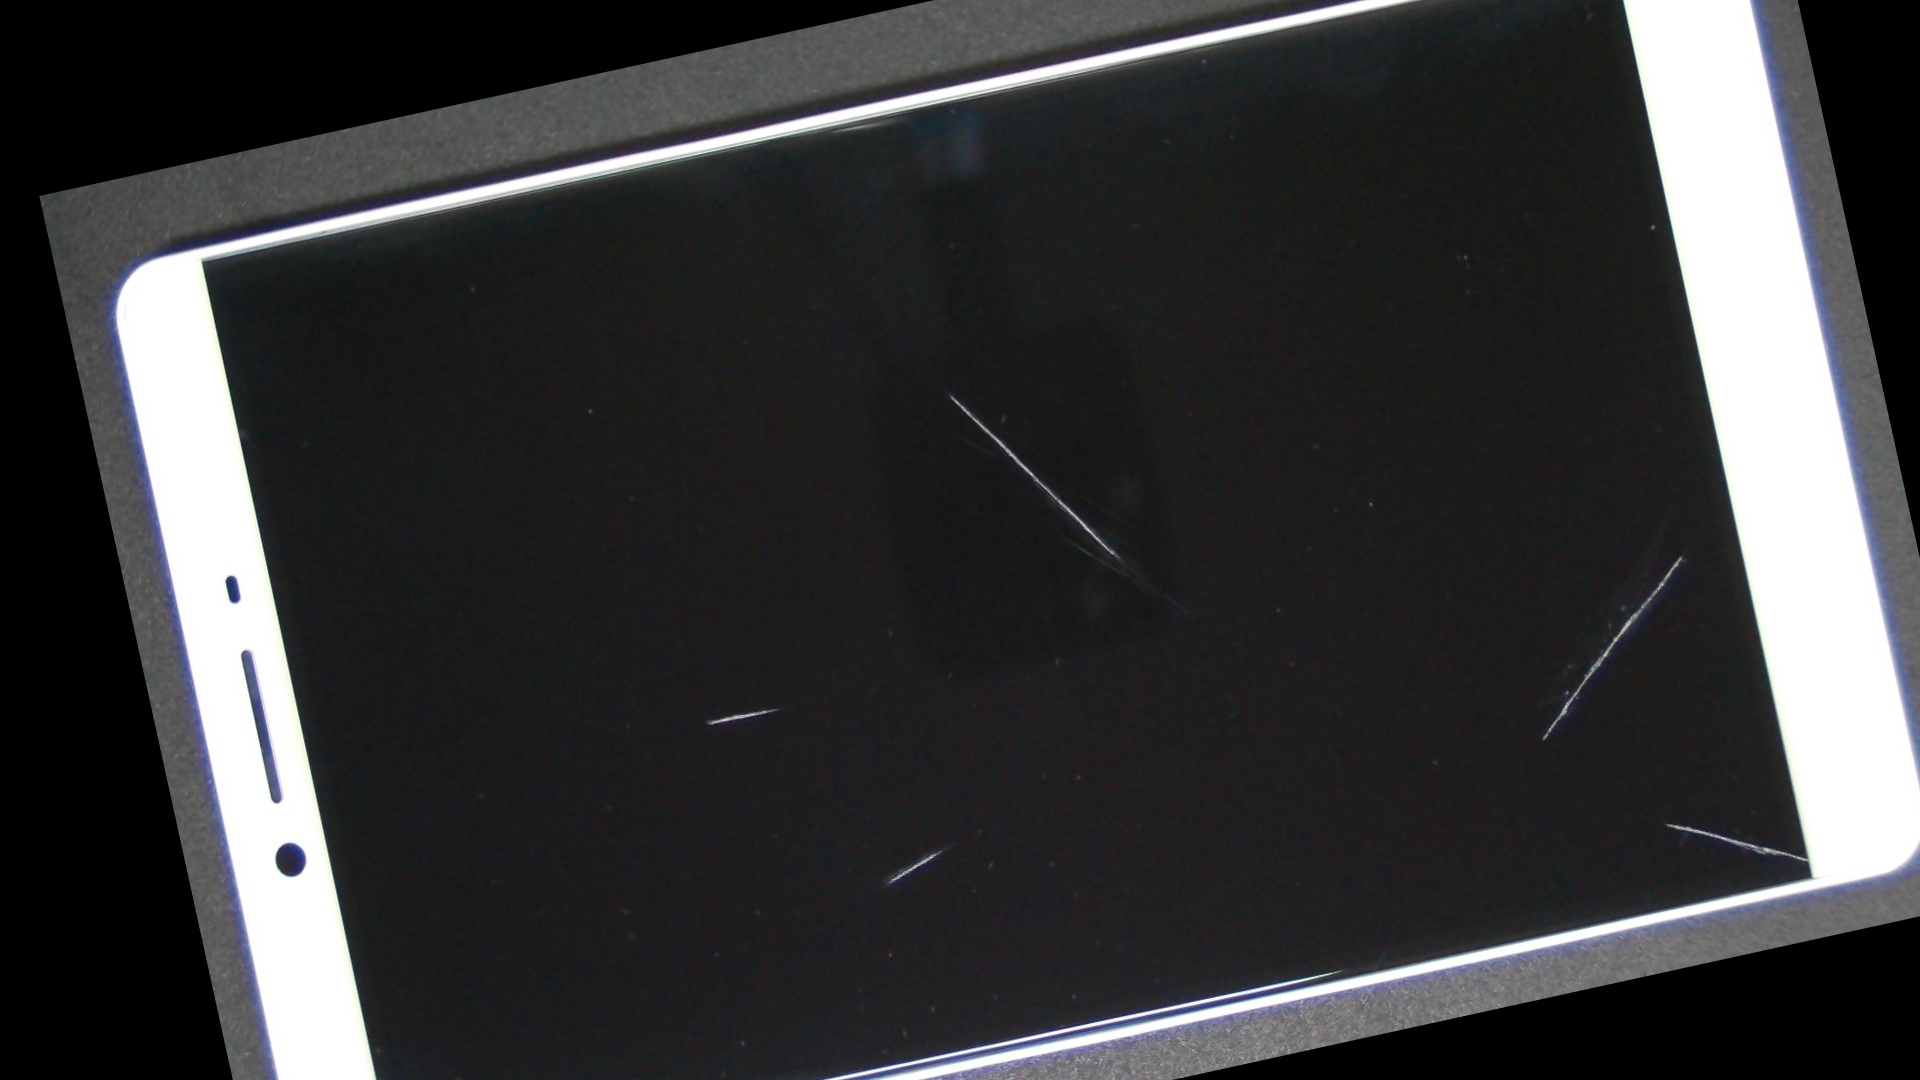oil: (861, 162, 1920, 1063), (853, 289, 1920, 1080), (491, 364, 1362, 1080), (496, 113, 1408, 678), (373, 342, 1040, 1080)
